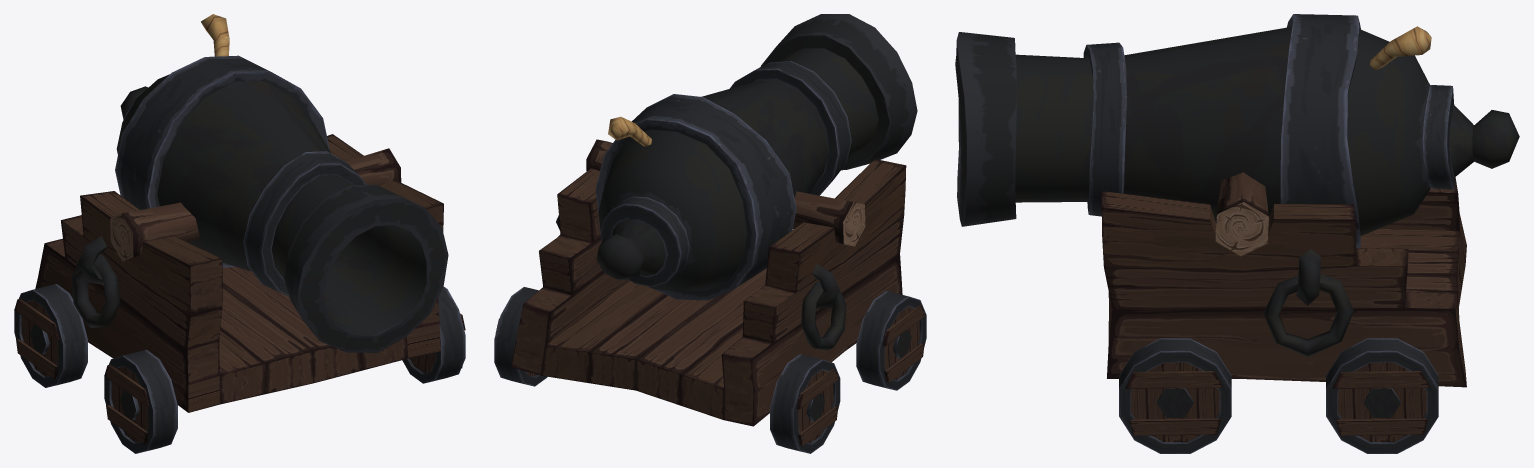
Rendered from SM_PROP_cannon_battle.fbx.
3 views of the same model, side by side, from view 1: azimuth 30°, elevation 25°; view 2: azimuth 150°, elevation 25°; view 3: azimuth 270°, elevation 25° (orthographic). The views are drawn at different scales.
Parts seen in each view (by area): view 1: SM_PROP_cannon_barrel_battle, SM_PROP_cannon_battle, SM_PROP_cannon_wheel_R_front_battle, SM_PROP_cannon_wheel_R_back_battle, SM_PROP_cannon_wheel_L_front_battle; view 2: SM_PROP_cannon_barrel_battle, SM_PROP_cannon_battle, SM_PROP_cannon_wheel_R_front_battle, SM_PROP_cannon_wheel_R_back_battle, SM_PROP_cannon_wheel_L_back_battle; view 3: SM_PROP_cannon_barrel_battle, SM_PROP_cannon_battle, SM_PROP_cannon_wheel_L_back_battle, SM_PROP_cannon_wheel_L_front_battle.
Boxes of the visible parts, x1,y1,x2,y2 form: SM_PROP_cannon_barrel_battle: [110, 14, 448, 352]; SM_PROP_cannon_battle: [35, 134, 443, 412]; SM_PROP_cannon_wheel_R_front_battle: [104, 349, 177, 453]; SM_PROP_cannon_wheel_R_back_battle: [14, 284, 87, 387]; SM_PROP_cannon_wheel_L_front_battle: [402, 286, 465, 383]; SM_PROP_cannon_barrel_battle: [586, 14, 917, 300]; SM_PROP_cannon_battle: [511, 159, 906, 426]; SM_PROP_cannon_wheel_R_front_battle: [856, 291, 926, 390]; SM_PROP_cannon_wheel_R_back_battle: [770, 354, 840, 453]; SM_PROP_cannon_wheel_L_back_battle: [494, 287, 547, 386]; SM_PROP_cannon_barrel_battle: [955, 14, 1519, 256]; SM_PROP_cannon_battle: [1101, 177, 1466, 387]; SM_PROP_cannon_wheel_L_back_battle: [1326, 338, 1438, 453]; SM_PROP_cannon_wheel_L_front_battle: [1119, 338, 1231, 453].
Size of the model in its own units: 134 by 125 by 179.
